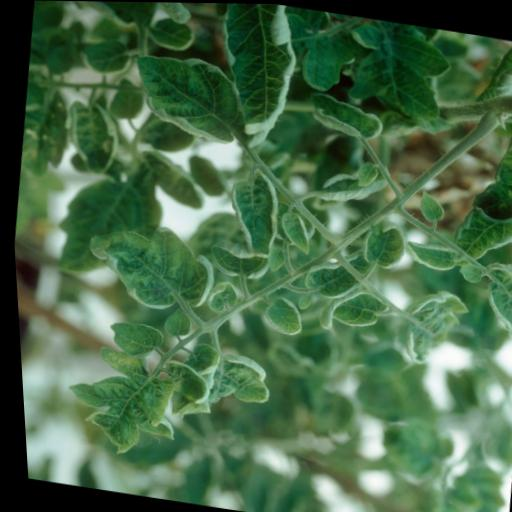Yellow Leaf Curl Virus: (49, 341, 186, 467), (202, 2, 308, 155), (72, 215, 218, 319), (122, 46, 249, 147), (167, 340, 273, 431), (459, 100, 512, 228), (217, 162, 286, 260), (393, 283, 468, 372), (57, 96, 123, 180), (295, 242, 378, 307), (302, 86, 387, 143), (310, 280, 391, 339), (441, 203, 512, 264), (467, 256, 512, 352), (308, 164, 388, 211), (198, 235, 276, 283), (354, 217, 408, 272), (251, 292, 305, 338), (399, 236, 459, 273)
